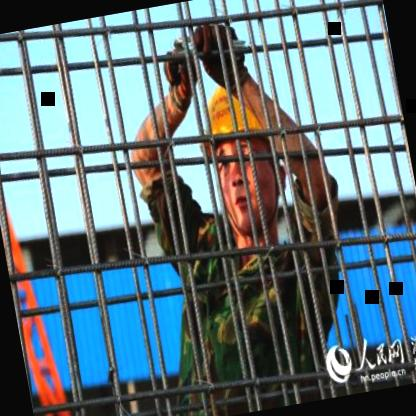helmet: (184, 74, 302, 244)
